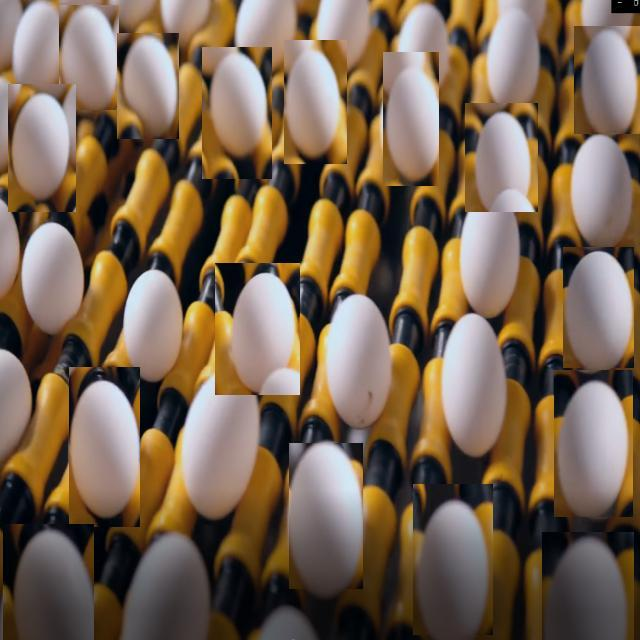Egg: (180, 360, 262, 526), (441, 303, 508, 490), (413, 484, 493, 635), (554, 370, 633, 517), (69, 367, 140, 527), (215, 263, 300, 395), (289, 443, 363, 589), (122, 532, 221, 640), (3, 524, 94, 640), (542, 532, 634, 640), (321, 288, 394, 420), (459, 188, 526, 330), (202, 47, 272, 179), (564, 131, 640, 252), (8, 84, 76, 212), (563, 247, 634, 368), (120, 265, 190, 382), (20, 216, 88, 334), (465, 103, 538, 212), (284, 40, 347, 164), (383, 52, 439, 186), (486, 13, 552, 124), (574, 26, 640, 134), (117, 34, 179, 140), (59, 5, 120, 110), (10, 4, 68, 103)
